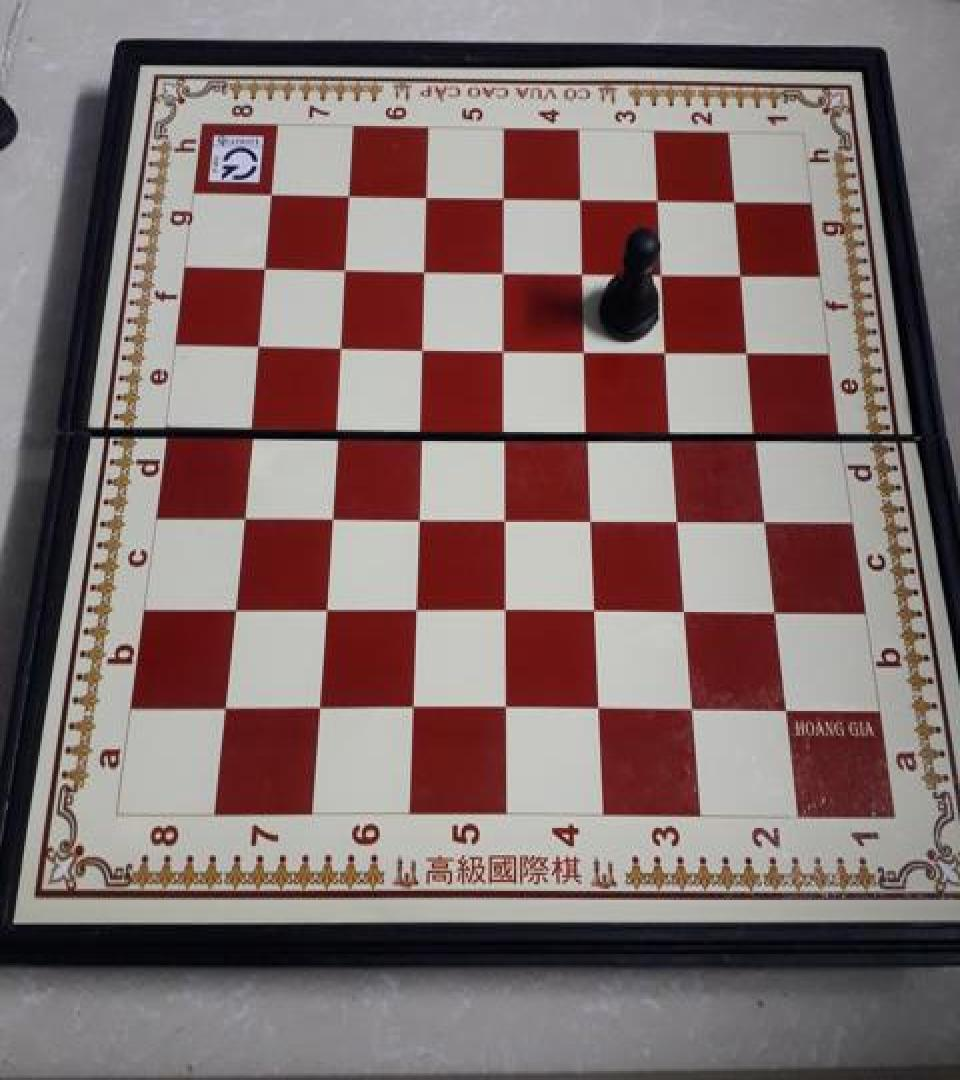xcorner: (585, 688, 617, 725), (678, 688, 710, 725), (771, 689, 803, 726), (491, 588, 523, 625), (581, 588, 613, 625), (210, 686, 242, 722), (304, 688, 336, 724), (398, 688, 430, 724), (492, 688, 524, 724), (220, 586, 252, 622), (310, 587, 342, 623), (401, 587, 433, 623), (671, 590, 703, 626), (760, 590, 792, 626), (228, 493, 260, 529), (316, 494, 348, 530), (403, 495, 435, 531), (491, 495, 523, 531), (578, 496, 610, 532), (664, 496, 696, 532), (751, 497, 783, 533), (236, 406, 268, 442), (321, 407, 353, 443), (406, 407, 438, 443), (490, 408, 522, 444), (574, 410, 606, 446), (658, 410, 690, 446), (742, 410, 774, 446), (244, 324, 276, 360), (326, 325, 358, 361), (408, 326, 440, 362), (490, 328, 522, 364), (571, 328, 603, 364), (734, 330, 766, 366), (251, 248, 283, 284), (331, 248, 363, 284), (410, 250, 442, 286), (489, 251, 521, 287), (568, 251, 600, 287), (647, 252, 679, 288), (726, 253, 758, 289), (258, 176, 290, 212), (335, 176, 367, 212), (412, 178, 444, 214), (489, 179, 521, 215), (566, 180, 598, 216), (642, 180, 674, 216), (718, 181, 750, 217), (653, 329, 685, 364)
